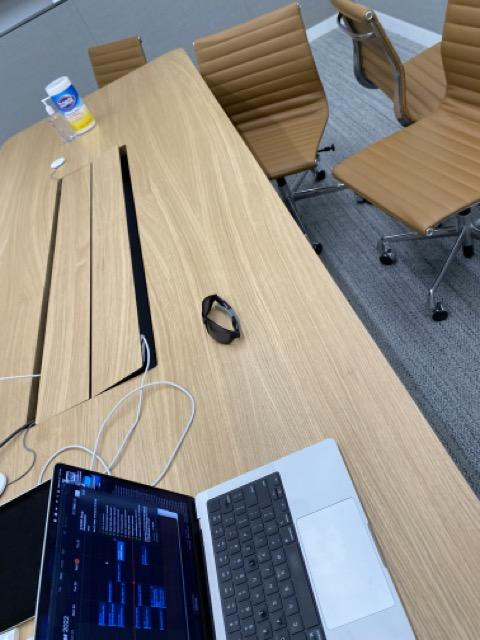Sunglasses: (199, 293, 242, 346)
